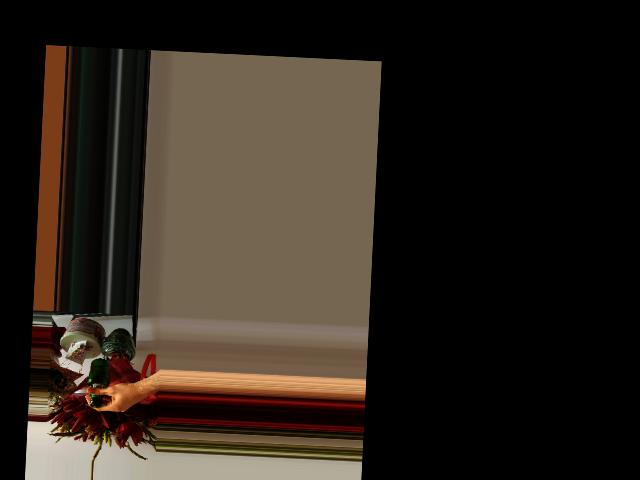beer: (85, 357, 110, 407)
